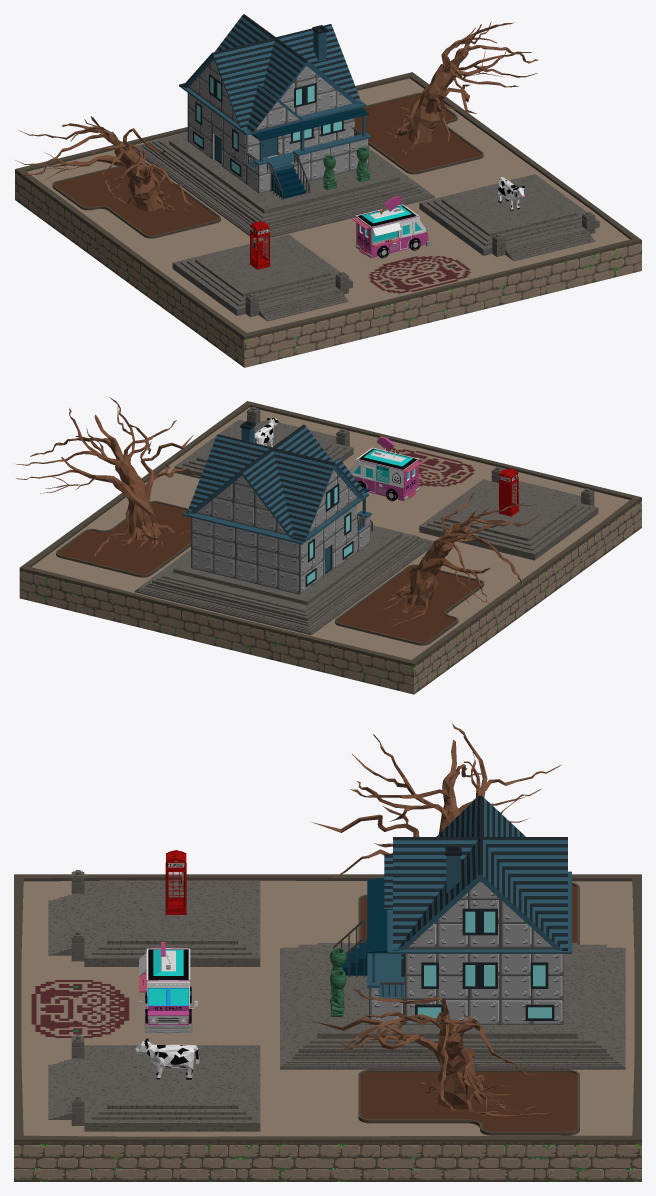
3 renders of one model, top to bottom at view 1: azimuth 30°, elevation 25°; view 2: azimuth 150°, elevation 25°; view 3: azimuth 270°, elevation 25°, orthographic. The views are drawn at different scales.
Parts seen in each view (by area): view 1: Cube.011, Cube.078, VEHICLES_ICE_CREAM_TRUCK, OBJRANDOM_PHONEBOOTH, ANIMAL_VACA; view 2: Cube.011, Cube.078, VEHICLES_ICE_CREAM_TRUCK, OBJRANDOM_PHONEBOOTH; view 3: Cube.011, Cube.078, VEHICLES_ICE_CREAM_TRUCK, ANIMAL_VACA, OBJRANDOM_PHONEBOOTH.
Boxes of the visible parts, bbox=[...] form: Cube.011: bbox=[15, 22, 641, 367]; Cube.078: bbox=[179, 14, 371, 199]; VEHICLES_ICE_CREAM_TRUCK: bbox=[352, 195, 431, 258]; OBJRANDOM_PHONEBOOTH: bbox=[249, 221, 270, 269]; ANIMAL_VACA: bbox=[497, 177, 524, 210]; Cube.011: bbox=[14, 397, 641, 694]; Cube.078: bbox=[183, 421, 372, 594]; VEHICLES_ICE_CREAM_TRUCK: bbox=[349, 436, 422, 501]; OBJRANDOM_PHONEBOOTH: bbox=[498, 468, 519, 516]; Cube.011: bbox=[14, 723, 641, 1181]; Cube.078: bbox=[333, 795, 571, 1024]; VEHICLES_ICE_CREAM_TRUCK: bbox=[139, 941, 197, 1033]; ANIMAL_VACA: bbox=[134, 1038, 199, 1079]; OBJRANDOM_PHONEBOOTH: bbox=[165, 850, 186, 914].
Bounding box in the file's own units: 5099 × 1638 × 4000.
48 materials, 7 textured.
